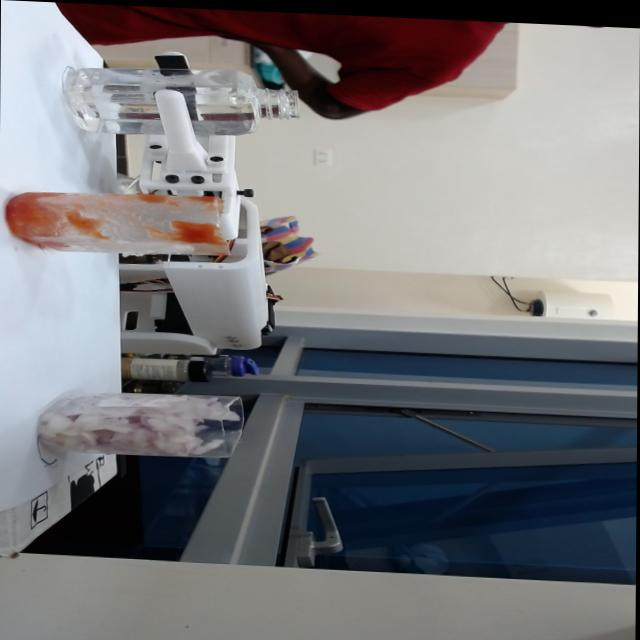blended_tomatoes_pepper: (1, 191, 217, 253)
sliced_onions: (32, 393, 221, 462)
water: (68, 66, 207, 135)
